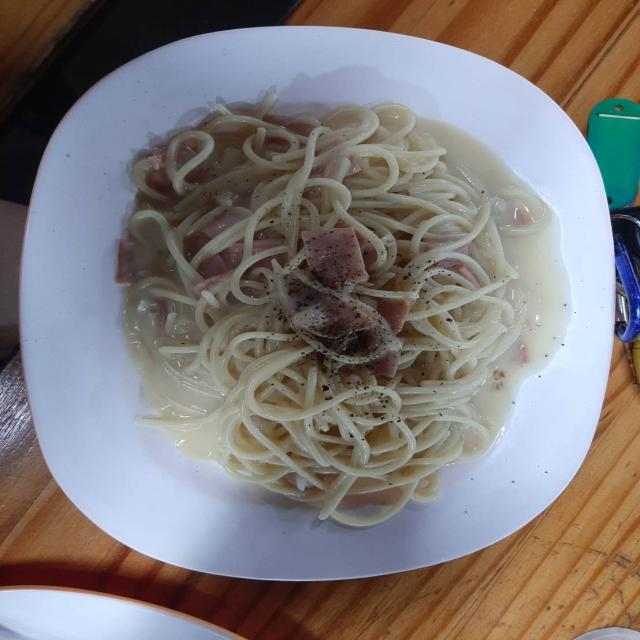carp: (117, 99, 509, 522)
meat: (19, 28, 613, 580), (189, 210, 275, 280), (330, 297, 403, 376), (296, 229, 366, 289), (156, 144, 202, 188), (328, 139, 361, 177), (264, 108, 310, 132), (507, 206, 535, 229), (515, 346, 536, 368), (120, 236, 130, 281)
